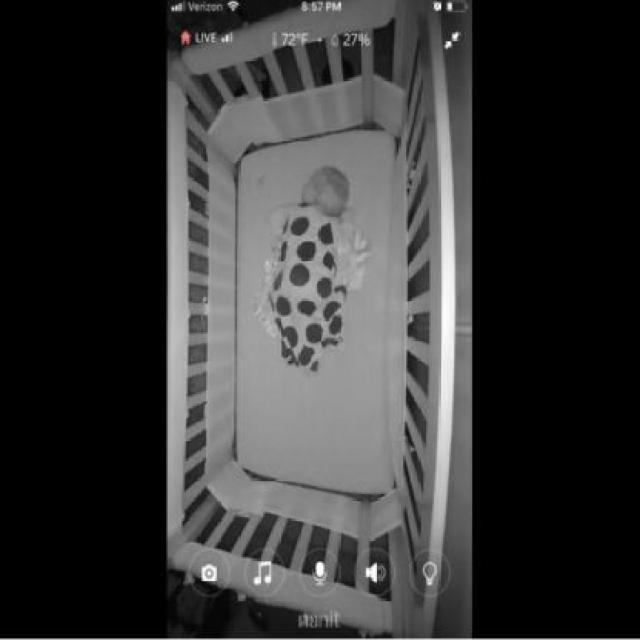child: (259, 166, 368, 382)
